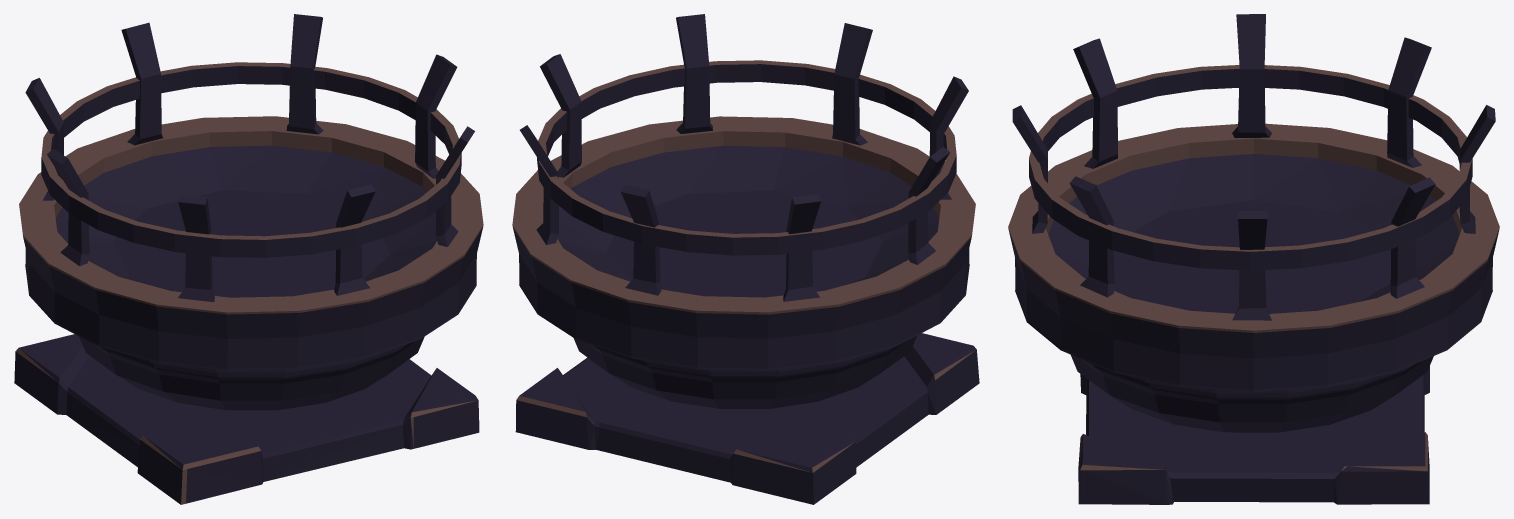
Rendered from MCastle_Fixtures_05.FBX.
The picture shows the model from 3 angles, left to right: view 1: azimuth 30°, elevation 25°; view 2: azimuth 150°, elevation 25°; view 3: azimuth 270°, elevation 25°; orthographic projection. The views are drawn at different scales.
Parts seen in each view (by area): view 1: MCastle_Fixtures_05_LOD0; view 2: MCastle_Fixtures_05_LOD0; view 3: MCastle_Fixtures_05_LOD0.
Boxes of the visible parts, left/top/right/bottom form: MCastle_Fixtures_05_LOD0: left=14, top=14, right=483, bottom=504; MCastle_Fixtures_05_LOD0: left=512, top=14, right=979, bottom=504; MCastle_Fixtures_05_LOD0: left=1008, top=14, right=1499, bottom=504.
Size of what is drawn, in the model's own units: 2.02 by 1.44 by 2.02.
